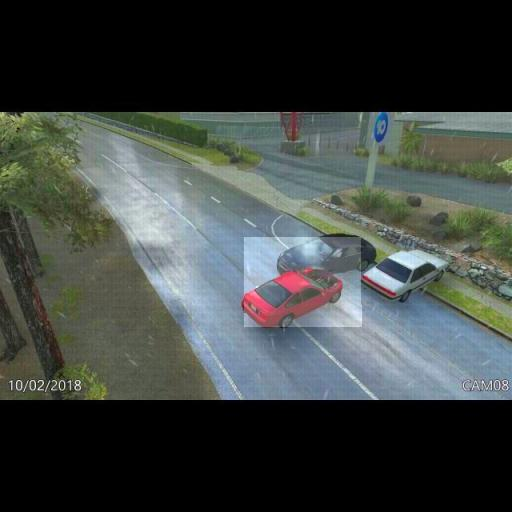小汽车: (361, 237, 449, 305)
小汽车撞小汽车: (244, 237, 362, 327)
